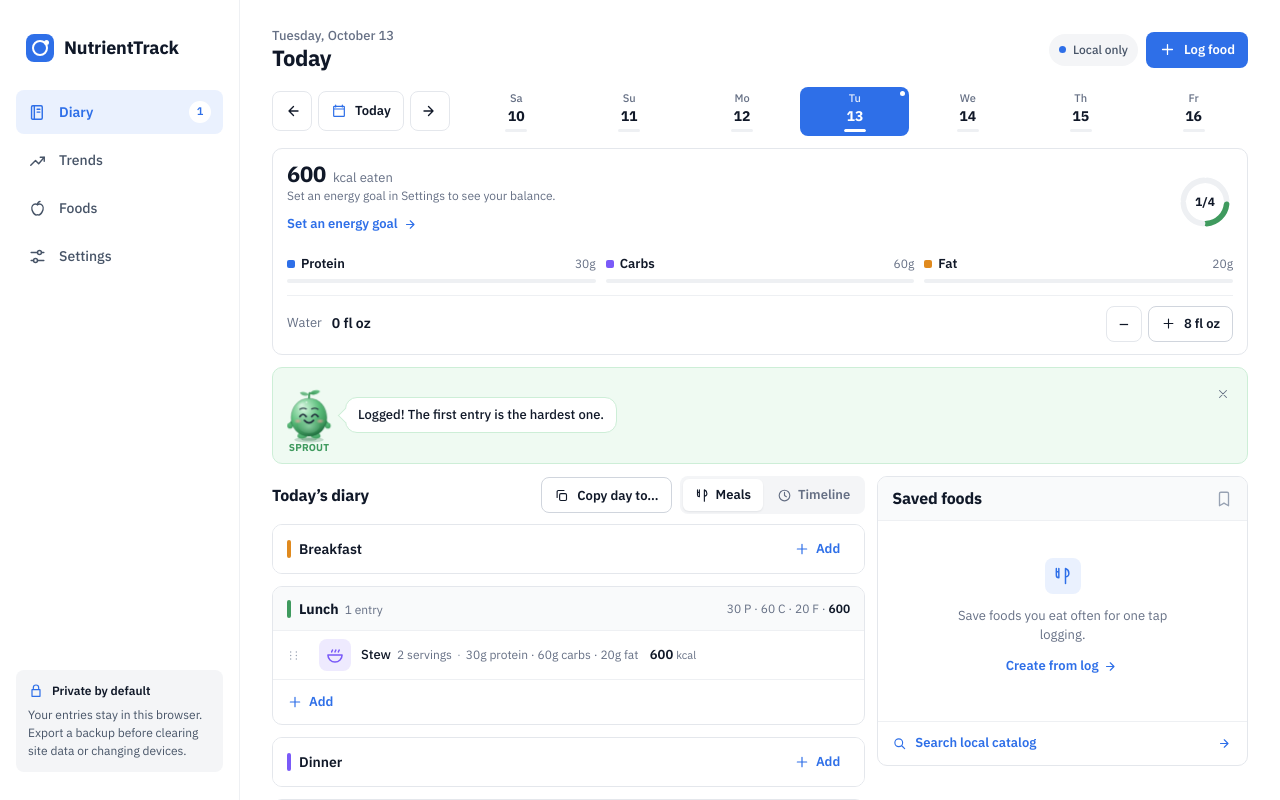
Scenario: servings on a recent entry › reopens at the stored servings with the stored macros
This screenshot has width=1280, height=800.
Click the button "Log food" at [1197, 50], box [1146,32,1248,68]
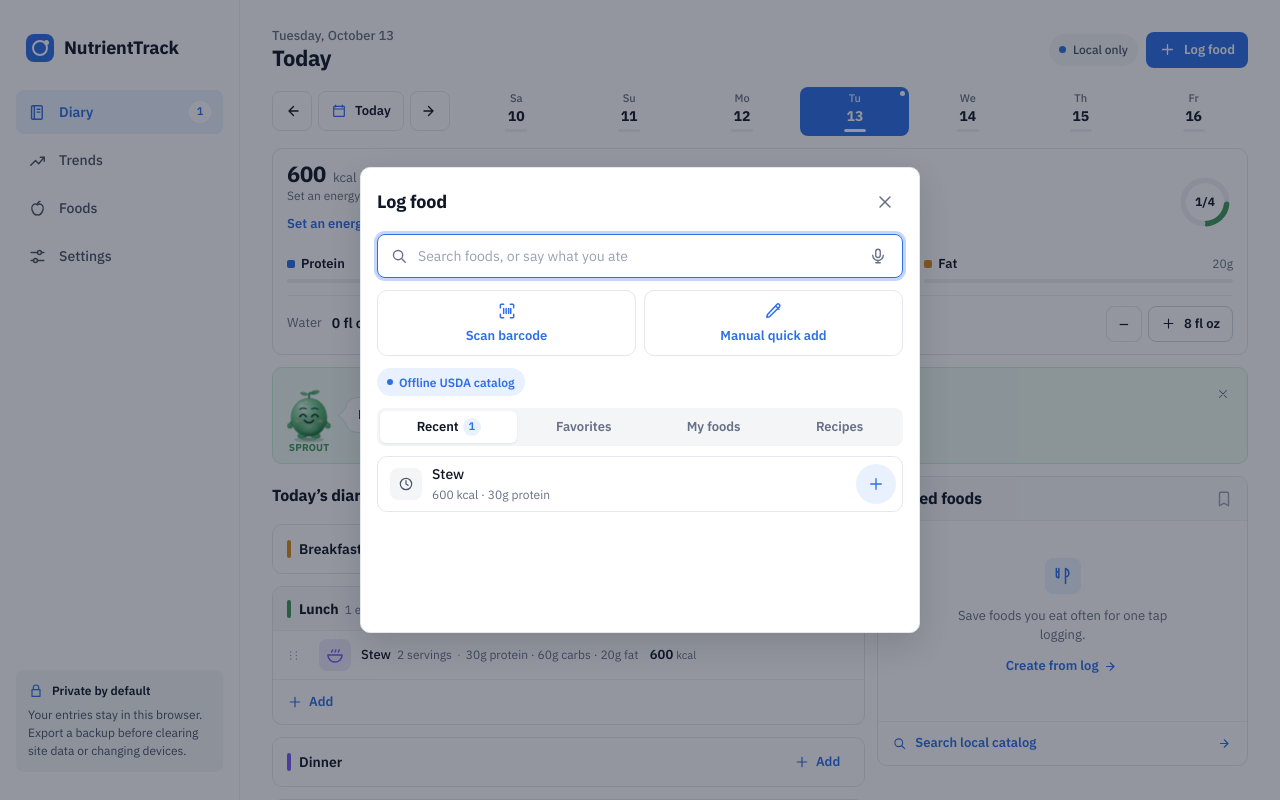
Click the button "Stew 600 kcal · 30g protein" at [406, 484], box [378,457,852,511]
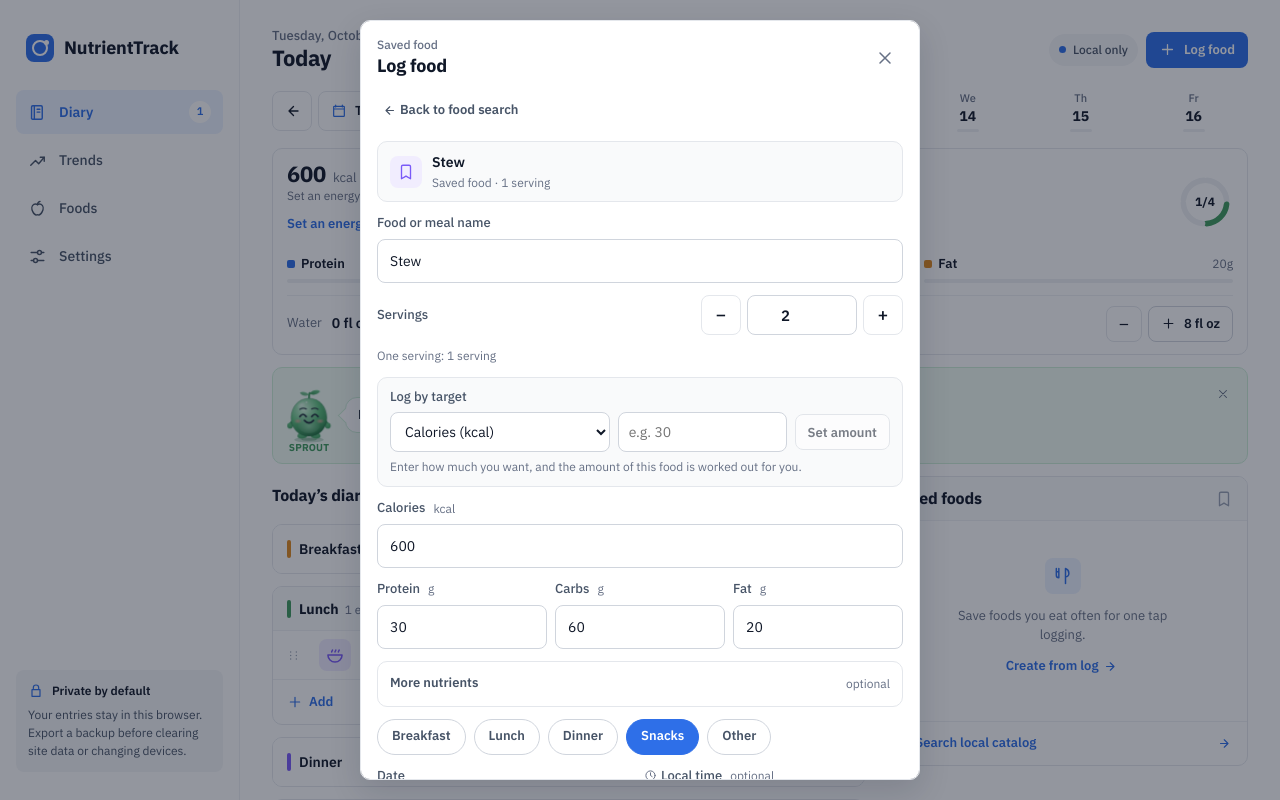
Check: the number field with id "entry-servings" holds "2", box [747,295,857,335]
Check: the number field with id "entry-calories" holds "600", box [377,524,903,568]
